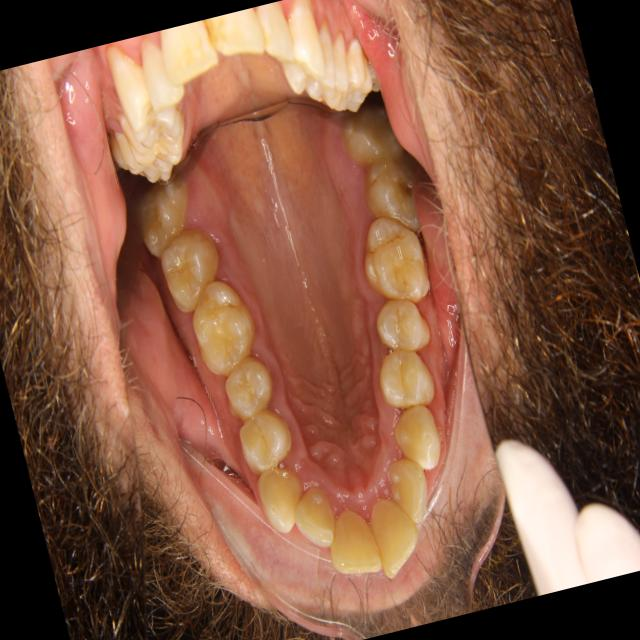tooth: (342, 197, 441, 316), (174, 264, 271, 384), (147, 214, 243, 327), (351, 142, 437, 244), (119, 170, 207, 269), (329, 90, 421, 182), (366, 331, 453, 425), (314, 495, 392, 588), (362, 278, 439, 366), (360, 486, 429, 582), (383, 393, 455, 484), (212, 344, 286, 430), (250, 455, 319, 544), (230, 400, 301, 482), (376, 445, 440, 535), (283, 475, 345, 556)
